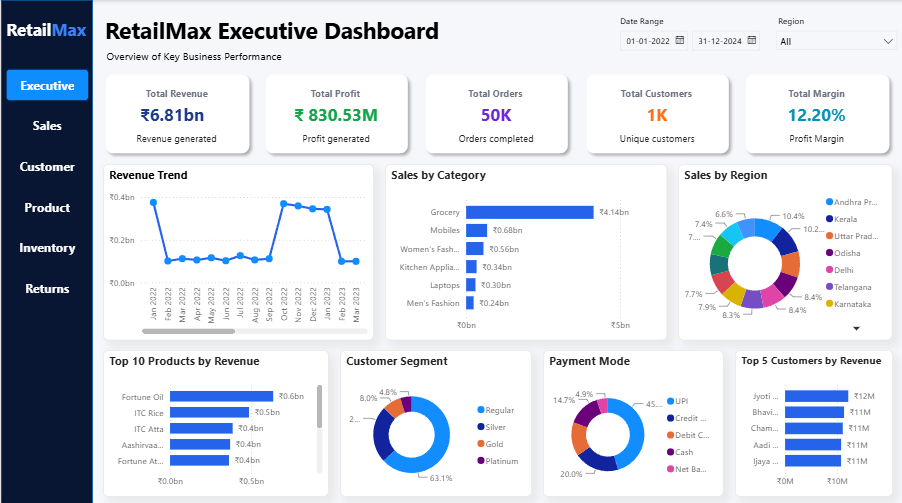

What the dashboard file says about the page in this screenshot:
{"tool":"powerbi","page":{"name":"Executive Dashboard","canvas":[1280,720],"ordinal":0},"visuals":[{"type":"shape","box":[0,0,130,720],"z":0,"group":"g6"},{"type":"textbox","box":[160,176,144,64],"z":1000},{"type":"group","id":"g1","title":"Group 1","box":[139,96,208,144],"z":2000},{"type":"shape","box":[139,96,222.1,130],"z":2000,"group":"g1"},{"type":"shape","box":[366,96,220,130],"z":2000,"group":"g2"},{"type":"shape","box":[593,96,220,130],"z":2000,"group":"g3"},{"type":"shape","box":[820,96,220,130],"z":2000,"group":"g4"},{"type":"shape","box":[1046,96,222.1,130],"z":2000,"group":"g5"},{"type":"textbox","box":[112,16,544,64],"z":3000},{"type":"textbox","box":[144,64,288,80],"z":4000},{"type":"slicer","fields":{"Values":["dim_date.full_date"]},"box":[864,15,224,96],"z":5000},{"type":"slicer","fields":{"Values":["dim_region.region_name"]},"box":[1088,15,192,80],"z":6000},{"type":"lineChart","title":"Revenue Trend","fields":{"Y":["Measure.Total Revenue"],"Category":["dim_date.Month Year"]},"box":[144,233,384,250],"z":7000},{"type":"textbox","box":[189.8,118,118.5,32],"z":8000,"group":"g1"},{"type":"textbox","box":[416.3,118,117.3,32],"z":8000,"group":"g2"},{"type":"textbox","box":[643.3,118,117.3,32],"z":8000,"group":"g3"},{"type":"textbox","box":[870.3,118,117.3,32],"z":8000,"group":"g4"},{"type":"textbox","box":[1096.8,118,118.5,32],"z":8000,"group":"g5"},{"type":"clusteredBarChart","title":"Sales by Category","fields":{"Category":["dim_category.category_name"],"Y":["Measure.Total Revenue"]},"box":[544,233,400,250],"z":8000},{"type":"textbox","box":[172.8,182,152.3,48],"z":9000,"group":"g1"},{"type":"textbox","box":[399.5,182,150.9,48],"z":9000,"group":"g2"},{"type":"textbox","box":[626.5,182,150.9,48],"z":9000,"group":"g3"},{"type":"textbox","box":[853.5,182,150.9,48],"z":9000,"group":"g4"},{"type":"textbox","box":[1079.8,182,152.3,48],"z":9000,"group":"g5"},{"type":"donutChart","title":"Sales by Region","fields":{"Category":["dim_region.region_name"],"Y":["Measure.Total Revenue"]},"box":[960,233,304,250],"z":9000},{"type":"clusteredBarChart","title":"Top 10 Products by Revenue","fields":{"Category":["dim_product.product_name"],"Y":["Measure.Total Revenue"]},"box":[144,496,320,208],"z":10000},{"type":"cardVisual","fields":{"Data":["Measure.Total Revenue"]},"box":[155,128,176,64],"z":11000,"group":"g1"},{"type":"cardVisual","fields":{"Data":["Measure.Total Profit"]},"box":[382.8,128,184.4,64],"z":11000,"group":"g2"},{"type":"cardVisual","fields":{"Data":["Measure.Total Orders"]},"box":[609.8,128,184.4,64],"z":11000,"group":"g3"},{"type":"cardVisual","fields":{"Data":["Measure.Total Customers"]},"box":[836.8,128,184.4,64],"z":11000,"group":"g4"},{"type":"cardVisual","fields":{"Data":["Measure.Profit Margin %"]},"box":[1062.9,128,186.2,64],"z":11000,"group":"g5"},{"type":"donutChart","title":"Customer Segment","fields":{"Category":["dim_customer.customer_segment"],"Y":["Measure.Total Customers"]},"box":[480,496,272,208],"z":11000},{"type":"donutChart","title":"Payment Mode","fields":{"Category":["fact_sales.payment_mode"],"Y":["Measure.Total Revenue"]},"box":[768,496,256,208],"z":12000},{"type":"clusteredBarChart","title":"Top 5 Customers by Revenue","fields":{"Category":["dim_customer.Customer Name"],"Y":["Measure.Total Revenue"]},"box":[1040,496,224,208],"z":13000},{"type":"group","id":"g2","title":"Group 1","box":[366,96,220,134],"z":14000},{"type":"group","id":"g3","title":"Group 1","box":[593,96,220,134],"z":15000},{"type":"group","id":"g4","title":"Group 1","box":[820,96,220,134],"z":16000},{"type":"group","id":"g5","title":"Group 1","box":[1046,96,222.1,134],"z":17000},{"type":"actionButton","box":[5,96,120,48],"z":18000,"group":"g6"},{"type":"textbox","box":[0,20,128,48],"z":19000,"group":"g6"},{"type":"actionButton","box":[5,153.6,120,48],"z":20000,"group":"g6"},{"type":"actionButton","box":[5,211.2,120,48],"z":21000,"group":"g6"},{"type":"actionButton","box":[5,268.8,120,48],"z":22000,"group":"g6"},{"type":"actionButton","box":[5,326.4,120,48],"z":23000,"group":"g6"},{"type":"actionButton","box":[5,384,120,48],"z":24000,"group":"g6"},{"type":"group","id":"g6","title":"Group 2","box":[0,0,130,720],"z":24001}]}

Visuals, with their boxes on the page's 1280x720 design canvas (x1, y1, x2, y2). These are canvas units, not pixel positions in the 902x503 screenshot, which may show the page scaled, cropped or inside an application window:
shape: Rect(0, 0, 130, 720)
textbox: Rect(160, 176, 304, 240)
"Group 1" group: Rect(139, 96, 347, 240)
shape: Rect(139, 96, 361, 226)
shape: Rect(366, 96, 586, 226)
shape: Rect(593, 96, 813, 226)
shape: Rect(820, 96, 1040, 226)
shape: Rect(1046, 96, 1268, 226)
textbox: Rect(112, 16, 656, 80)
textbox: Rect(144, 64, 432, 144)
slicer - dim_date.full_date: Rect(864, 15, 1088, 111)
slicer - dim_region.region_name: Rect(1088, 15, 1280, 95)
"Revenue Trend" lineChart: Rect(144, 233, 528, 483)
textbox: Rect(190, 118, 308, 150)
textbox: Rect(416, 118, 534, 150)
textbox: Rect(643, 118, 761, 150)
textbox: Rect(870, 118, 988, 150)
textbox: Rect(1097, 118, 1215, 150)
"Sales by Category" clusteredBarChart: Rect(544, 233, 944, 483)
textbox: Rect(173, 182, 325, 230)
textbox: Rect(400, 182, 550, 230)
textbox: Rect(626, 182, 777, 230)
textbox: Rect(854, 182, 1004, 230)
textbox: Rect(1080, 182, 1232, 230)
"Sales by Region" donutChart: Rect(960, 233, 1264, 483)
"Top 10 Products by Revenue" clusteredBarChart: Rect(144, 496, 464, 704)
cardVisual - Measure.Total Revenue: Rect(155, 128, 331, 192)
cardVisual - Measure.Total Profit: Rect(383, 128, 567, 192)
cardVisual - Measure.Total Orders: Rect(610, 128, 794, 192)
cardVisual - Measure.Total Customers: Rect(837, 128, 1021, 192)
cardVisual - Measure.Profit Margin %: Rect(1063, 128, 1249, 192)
"Customer Segment" donutChart: Rect(480, 496, 752, 704)
"Payment Mode" donutChart: Rect(768, 496, 1024, 704)
"Top 5 Customers by Revenue" clusteredBarChart: Rect(1040, 496, 1264, 704)
"Group 1" group: Rect(366, 96, 586, 230)
"Group 1" group: Rect(593, 96, 813, 230)
"Group 1" group: Rect(820, 96, 1040, 230)
"Group 1" group: Rect(1046, 96, 1268, 230)
actionButton: Rect(5, 96, 125, 144)
textbox: Rect(0, 20, 128, 68)
actionButton: Rect(5, 154, 125, 202)
actionButton: Rect(5, 211, 125, 259)
actionButton: Rect(5, 269, 125, 317)
actionButton: Rect(5, 326, 125, 374)
actionButton: Rect(5, 384, 125, 432)
"Group 2" group: Rect(0, 0, 130, 720)
